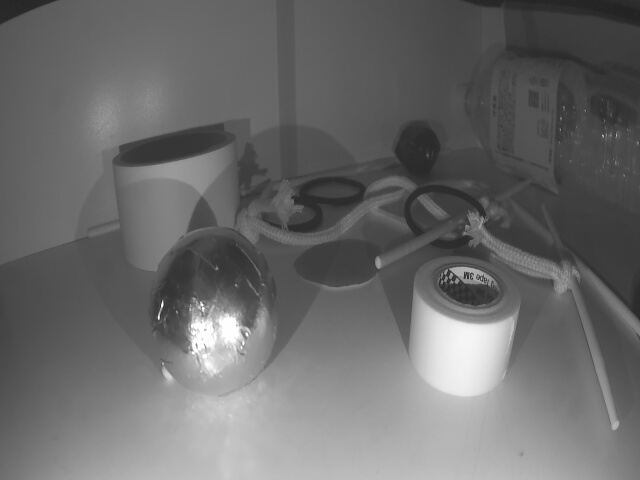Dead: (399, 122, 438, 172)
Live: (146, 235, 282, 400)
